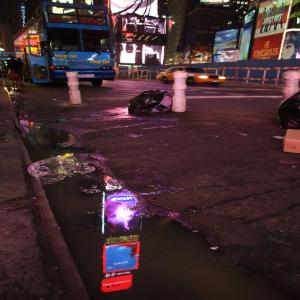Vehicle-registration-plate: (77, 75, 96, 80)
